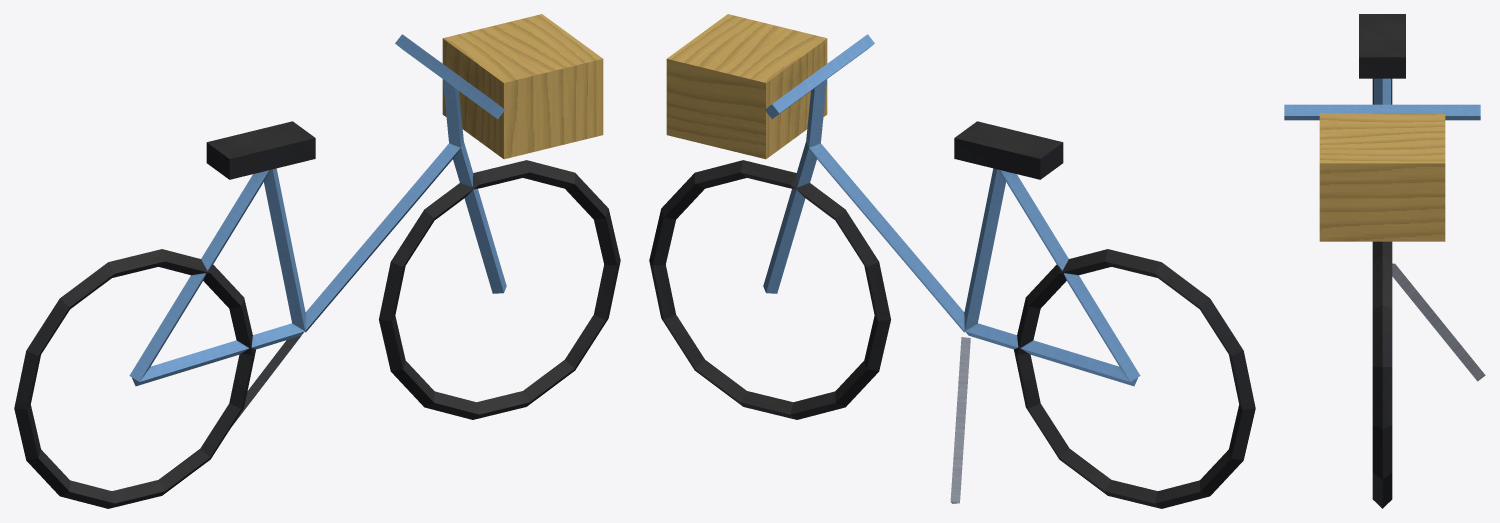
The model's file is cykel_parkerad_tex.glb.
3 views of the same model, side by side, from view 1: azimuth 30°, elevation 25°; view 2: azimuth 150°, elevation 25°; view 3: azimuth 270°, elevation 25° (orthographic). The views are drawn at different scales.
Parts seen in each view (by area): view 1: cykel_parkerad; view 2: cykel_parkerad; view 3: cykel_parkerad.
Part boxes in pixels (x1=…): cykel_parkerad: x1=14, y1=14, x2=620, y2=508; cykel_parkerad: x1=649, y1=14, x2=1255, y2=508; cykel_parkerad: x1=1284, y1=14, x2=1485, y2=508.
Bounding box in the file's own units: 1.83 × 1.04 × 0.5126.
5 materials, 5 textured.
